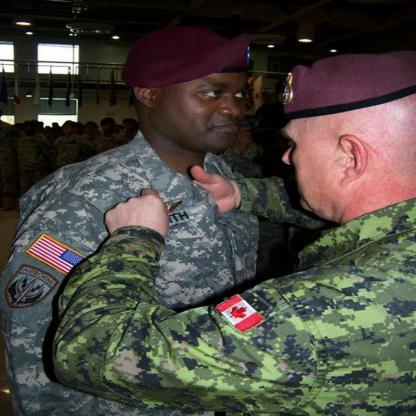face: (284, 108, 368, 212), (155, 65, 249, 150), (64, 126, 75, 134), (103, 124, 113, 132), (87, 126, 96, 134), (24, 127, 34, 134), (126, 123, 133, 130)
